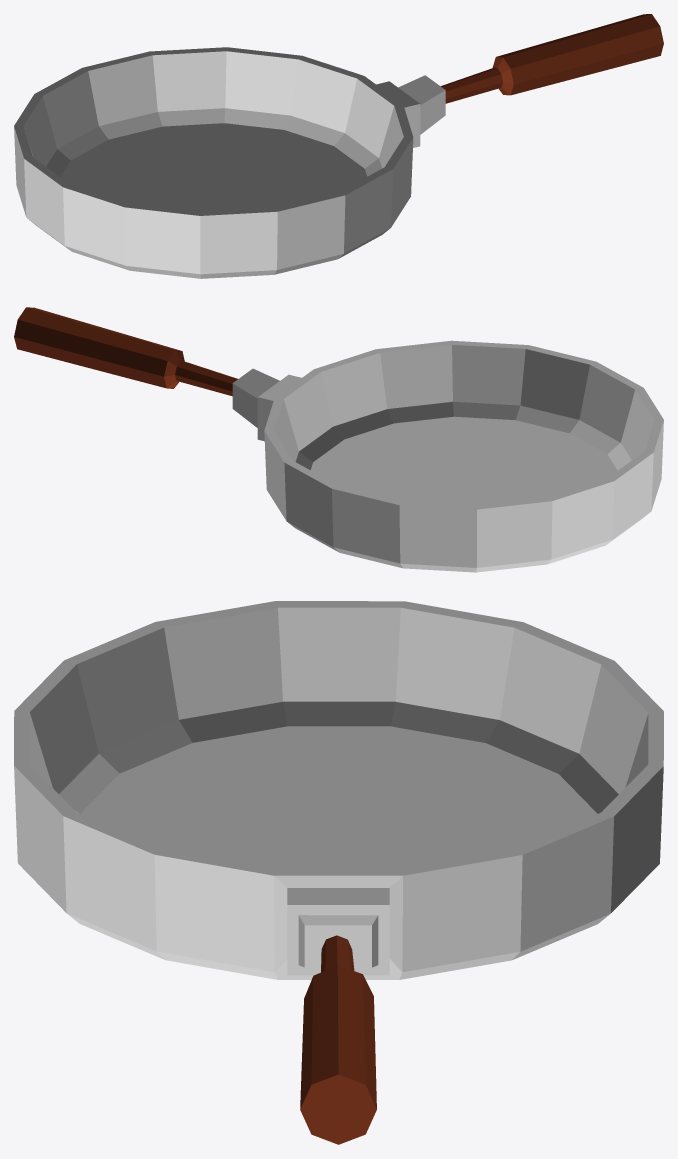
Rendered from Frying Pan 2.fbx.
3 renders of one model, top to bottom at view 1: azimuth 30°, elevation 25°; view 2: azimuth 150°, elevation 25°; view 3: azimuth 270°, elevation 25°, orthographic. The views are drawn at different scales.
Parts seen in each view (by area): view 1: Node 0; view 2: Node 0; view 3: Node 0.
Part boxes in pixels (bbox=[...]): Node 0: bbox=[14, 14, 663, 278]; Node 0: bbox=[14, 307, 663, 572]; Node 0: bbox=[14, 601, 663, 1144].
Size of the model in its own units: 0.4705 by 0.104 by 0.8425.
